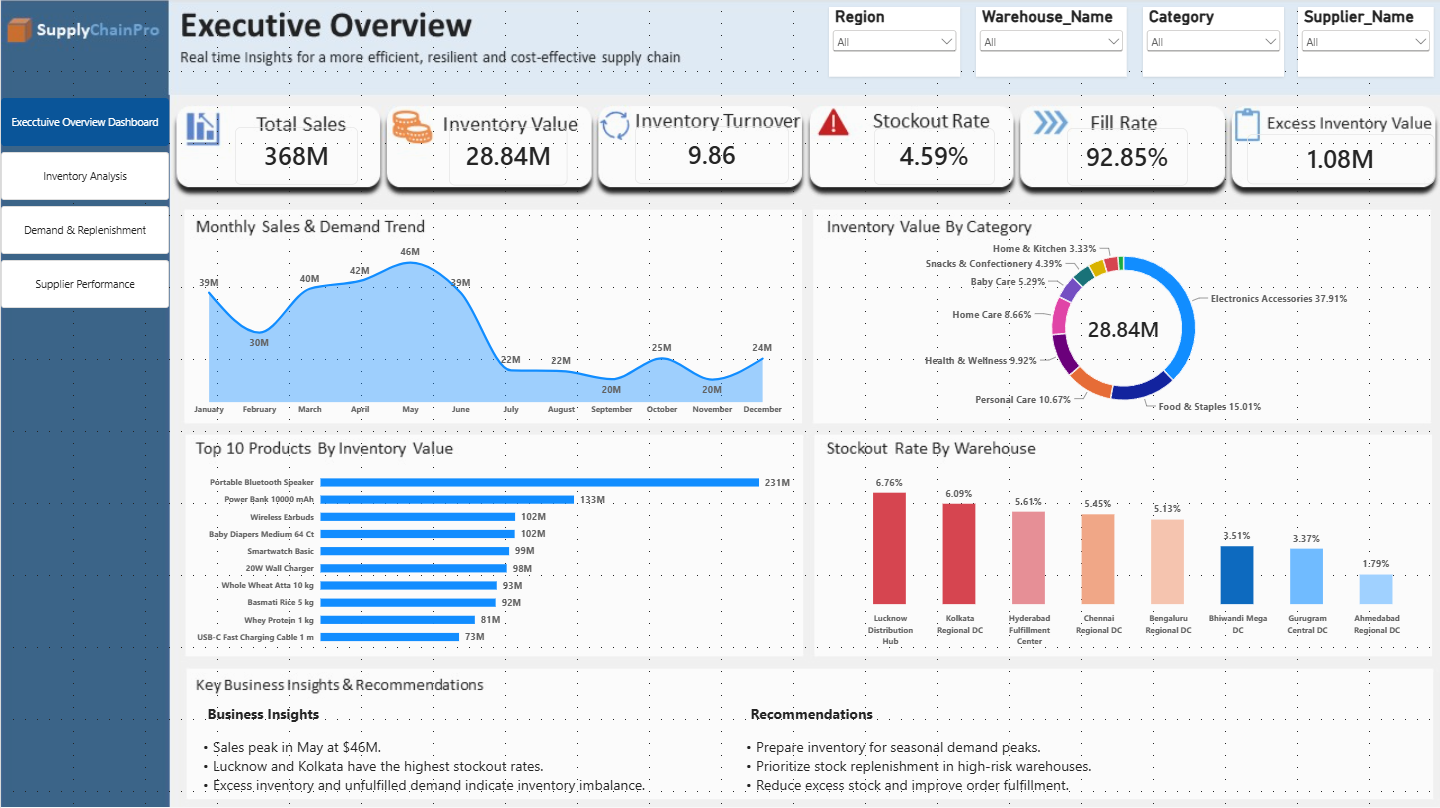

This screenshot's page, from the dashboard's own definition file:
{"tool":"powerbi","page":{"name":"Execctuive Overview Dashboard","canvas":[1920,1080],"ordinal":0},"visuals":[{"type":"card","fields":{"Values":["Sales_Demand.Total Sales"]},"box":[312,170.7,164,77.3],"z":0},{"type":"card","fields":{"Values":["Inventory.Total Inventory Value"]},"box":[597.3,170.7,158.5,77.7],"z":1000},{"type":"card","fields":{"Values":["Inventory.Inventory Turnover"]},"box":[845.1,170,204.6,77.1],"z":2000},{"type":"card","fields":{"Values":["Inventory.Stockout Rate"]},"box":[1164.6,171.5,160.5,75.5],"z":3000},{"type":"card","fields":{"Values":["Sales_Demand.Fill Rate"]},"box":[1421.1,171.5,160.5,77.1],"z":4000},{"type":"card","fields":{"Values":["Inventory.Excess Inventory Value"]},"box":[1660.8,179.7,249.6,67.2],"z":5000},{"type":"areaChart","fields":{"Category":["Sales_Demand.Order_Date.Variation.Date Hierarchy.Month"],"Y":["Sales_Demand.Total Sales"]},"box":[234.5,303.1,824.7,273.8],"z":6000},{"type":"donutChart","fields":{"Category":["Products.Category"],"Y":["Inventory.Total Inventory Value"]},"box":[1082.1,303.1,828.3,274.3],"z":7000},{"type":"clusteredBarChart","fields":{"Category":["Products.Product_Name"],"Y":["Sum(Inventory.Inventory_Value)"]},"box":[244.1,607.5,824.7,273.8],"z":8000},{"type":"clusteredColumnChart","fields":{"Category":["Warehouses.Warehouse_Name"],"Y":["Inventory.Stockout Rate"]},"box":[1082.1,607.5,828.3,273.8],"z":9000},{"type":"slicer","fields":{"Values":["Warehouses.Warehouse_Name"]},"box":[1300,10.7,201.3,93.3],"z":10000},{"type":"slicer","fields":{"Values":["Products.Category"]},"box":[1522.7,10.7,188,93.3],"z":11000},{"type":"slicer","fields":{"Values":["Warehouses.Region"]},"box":[1104,10.7,174.7,93.3],"z":12000},{"type":"slicer","fields":{"Values":["Suppliers.Supplier_Name"]},"box":[1729.3,10.7,181.3,93],"z":13000},{"type":"pageNavigator","box":[0,132.2,224,282.4],"z":14000},{"type":"textbox","box":[312,0,164,150],"z":15000},{"type":"textbox","box":[254.6,940.5,660.9,126.6],"z":16000},{"type":"textbox","box":[978.1,940.5,499.5,139.1],"z":16001}]}

Visuals, with their boxes on the page's 1920x1080 design canvas (x1, y1, x2, y2). These are canvas units, not pixel positions in the 1440x808 screenshot, which may show the page scaled, cropped or inside an application window:
card - Sales_Demand.Total Sales: box(312, 171, 476, 248)
card - Inventory.Total Inventory Value: box(597, 171, 756, 248)
card - Inventory.Inventory Turnover: box(845, 170, 1050, 247)
card - Inventory.Stockout Rate: box(1165, 172, 1325, 247)
card - Sales_Demand.Fill Rate: box(1421, 172, 1582, 249)
card - Inventory.Excess Inventory Value: box(1661, 180, 1910, 247)
areaChart - Sales_Demand.Order_Date.Variation.Date Hierarchy.Month x Sales_Demand.Total Sales: box(234, 303, 1059, 577)
donutChart - Products.Category x Inventory.Total Inventory Value: box(1082, 303, 1910, 577)
clusteredBarChart - Products.Product_Name x Sum(Inventory.Inventory_Value): box(244, 608, 1069, 881)
clusteredColumnChart - Warehouses.Warehouse_Name x Inventory.Stockout Rate: box(1082, 608, 1910, 881)
slicer - Warehouses.Warehouse_Name: box(1300, 11, 1501, 104)
slicer - Products.Category: box(1523, 11, 1711, 104)
slicer - Warehouses.Region: box(1104, 11, 1279, 104)
slicer - Suppliers.Supplier_Name: box(1729, 11, 1911, 104)
pageNavigator: box(0, 132, 224, 415)
textbox: box(312, 0, 476, 150)
textbox: box(255, 940, 916, 1067)
textbox: box(978, 940, 1478, 1080)
